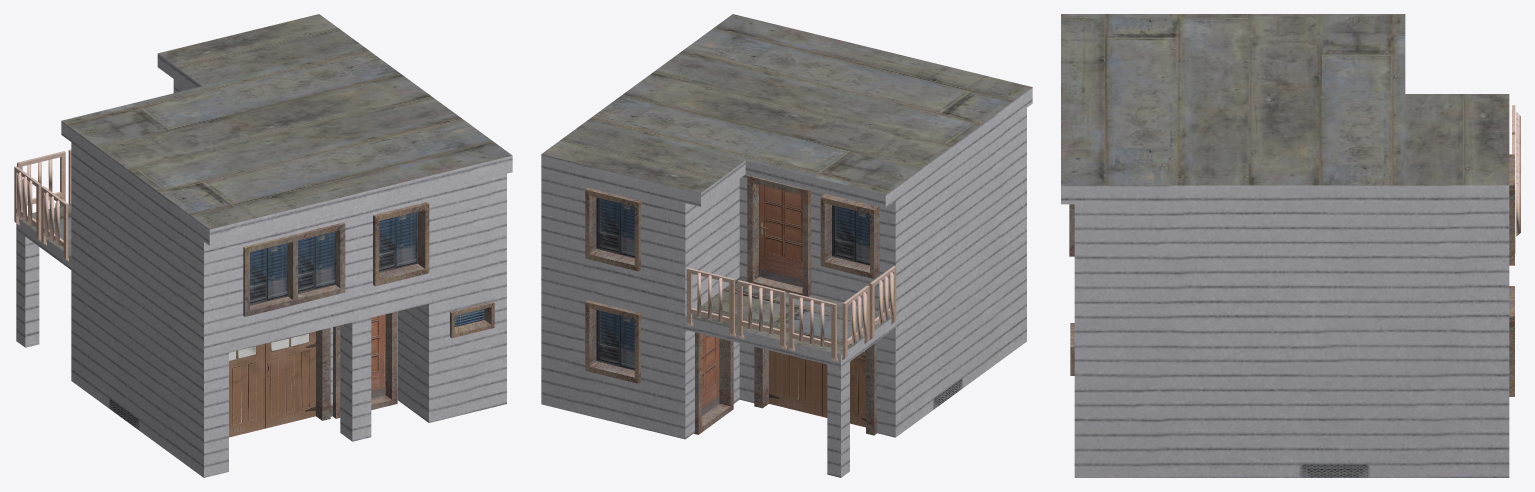
File: h_house6.glb
3 renders of one model, left to right at view 1: azimuth 30°, elevation 25°; view 2: azimuth 150°, elevation 25°; view 3: azimuth 270°, elevation 25°, orthographic. The views are drawn at different scales.
Visible parts, largest first — view 1: house6, garage_door5, window_wide3, window32.001, door13, railing11, railing10, window_bathroom6.001, railing9; view 2: house6, door14.001, garage_door6, window30, window31, window32, door14, railing7, railing9, railing8, railing10, railing11; view 3: house6, window31, window32.
Part boxes in pixels (x1,y1,x2,y2): house6: (16, 14, 512, 477); garage_door5: (229, 328, 330, 437); window_wide3: (243, 222, 345, 316); window32.001: (373, 202, 429, 286); door13: (333, 311, 397, 418); railing11: (41, 186, 68, 261); railing10: (14, 166, 41, 241); window_bathroom6.001: (450, 301, 494, 338); railing9: (17, 151, 65, 209); house6: (541, 14, 1032, 477); door14.001: (747, 175, 811, 296); garage_door6: (754, 342, 876, 435); window30: (820, 194, 879, 278); window31: (585, 188, 640, 271); window32: (585, 300, 640, 383); door14: (694, 332, 733, 434); railing7: (686, 267, 735, 336); railing9: (788, 292, 837, 361); railing8: (737, 280, 786, 349); railing10: (842, 285, 869, 359); railing11: (869, 266, 896, 340); house6: (1061, 14, 1509, 477); window31: (1509, 154, 1514, 265); window32: (1509, 286, 1514, 396).
Size of the model in its own units: 2.02 by 1.58 by 2.23.
Materials: 1 (1 with a texture image).
